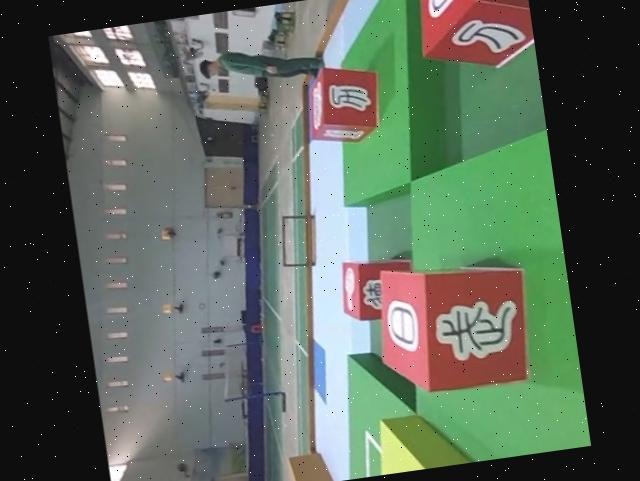R2 Fake: (366, 248, 540, 402), (407, 0, 537, 78), (296, 57, 387, 150), (333, 249, 422, 326)
